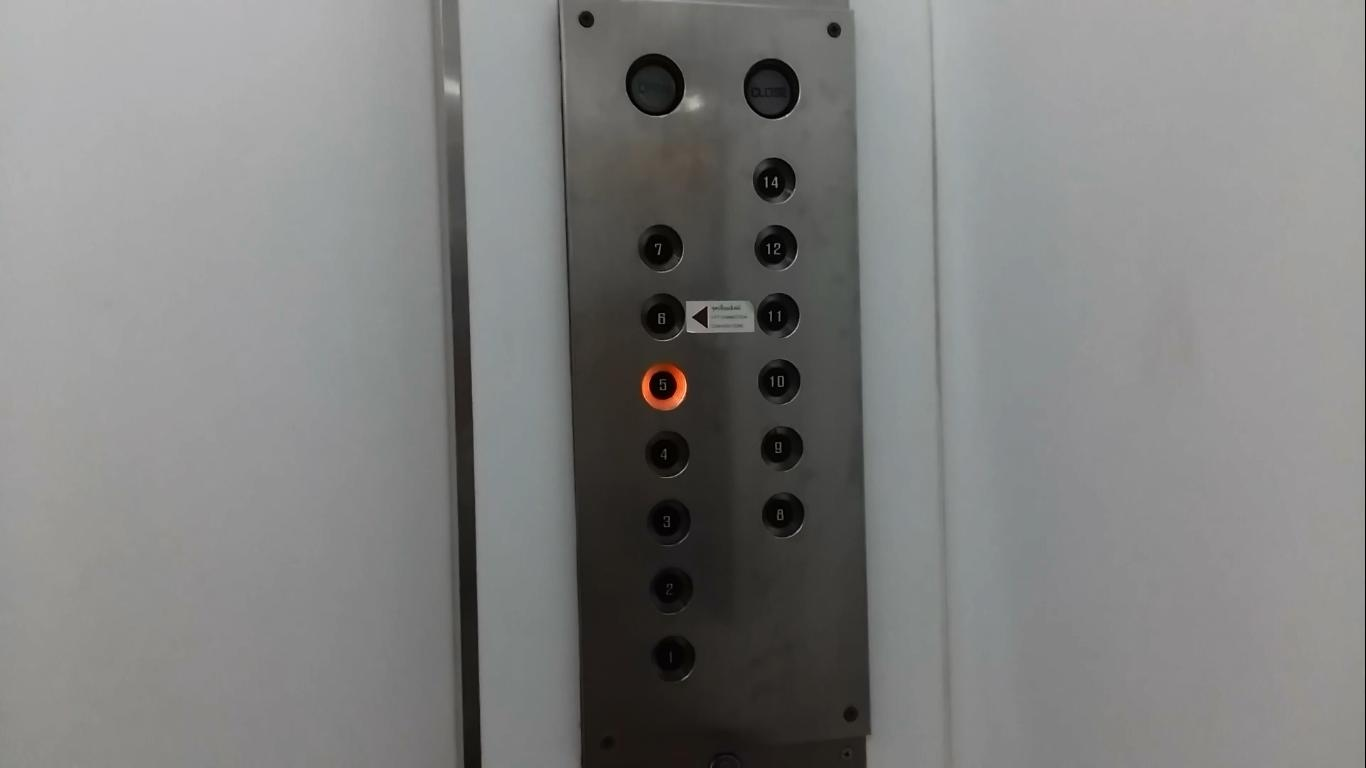1: (646, 631, 698, 684)
10: (755, 356, 802, 406)
11: (754, 291, 800, 339)
12: (751, 223, 798, 270)
14: (750, 156, 796, 203)
2: (645, 562, 695, 615)
3: (644, 496, 692, 547)
4: (640, 428, 689, 478)
5: (638, 360, 687, 410)
6: (636, 291, 686, 341)
7: (635, 221, 684, 273)
8: (758, 490, 805, 538)
9: (756, 424, 804, 474)
text_blur: (625, 52, 685, 118), (744, 58, 800, 120)
